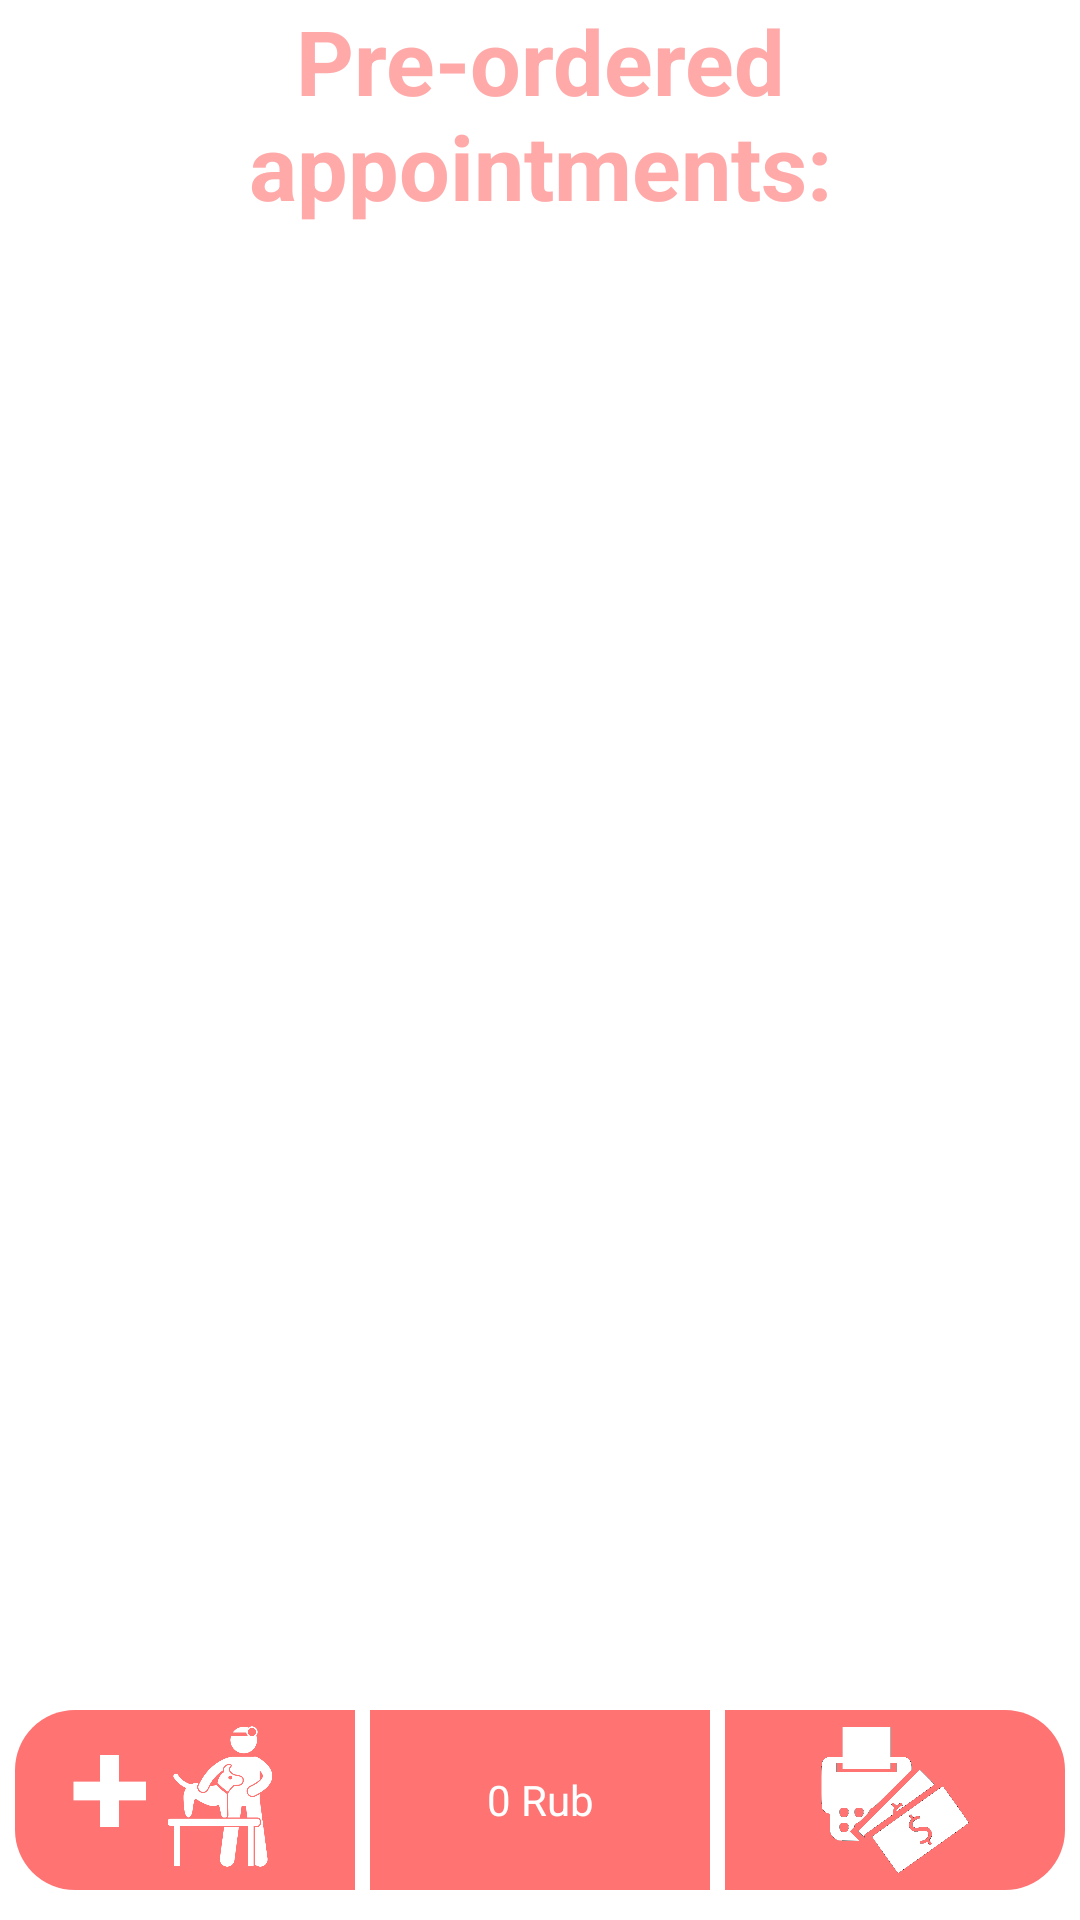

Screen size 1080px×1920px. Icon name, then its center in pixels as [x,y]:
appointmets add: [185,1800]
pay: [895,1800]
